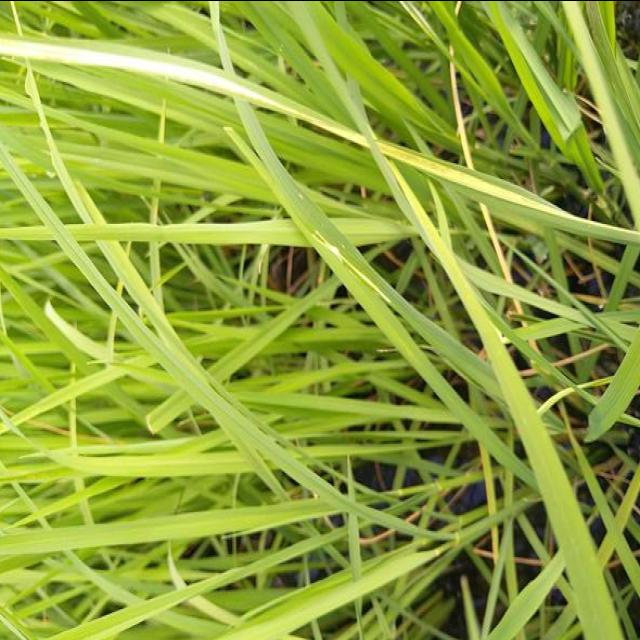Leaf Blight: (0, 35, 372, 146), (379, 138, 588, 232)
